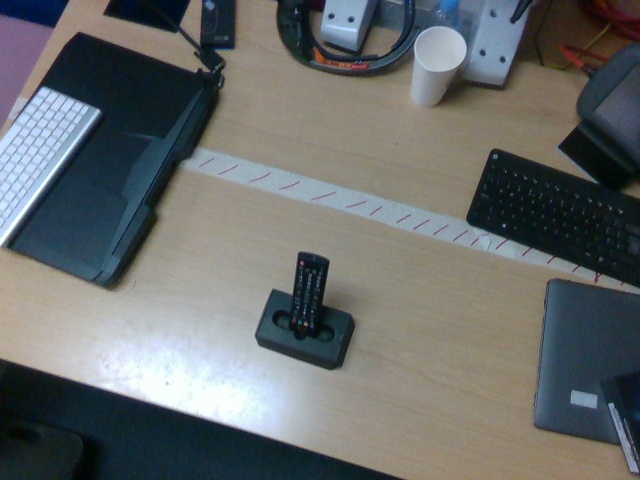remote: (290, 251, 330, 335)
